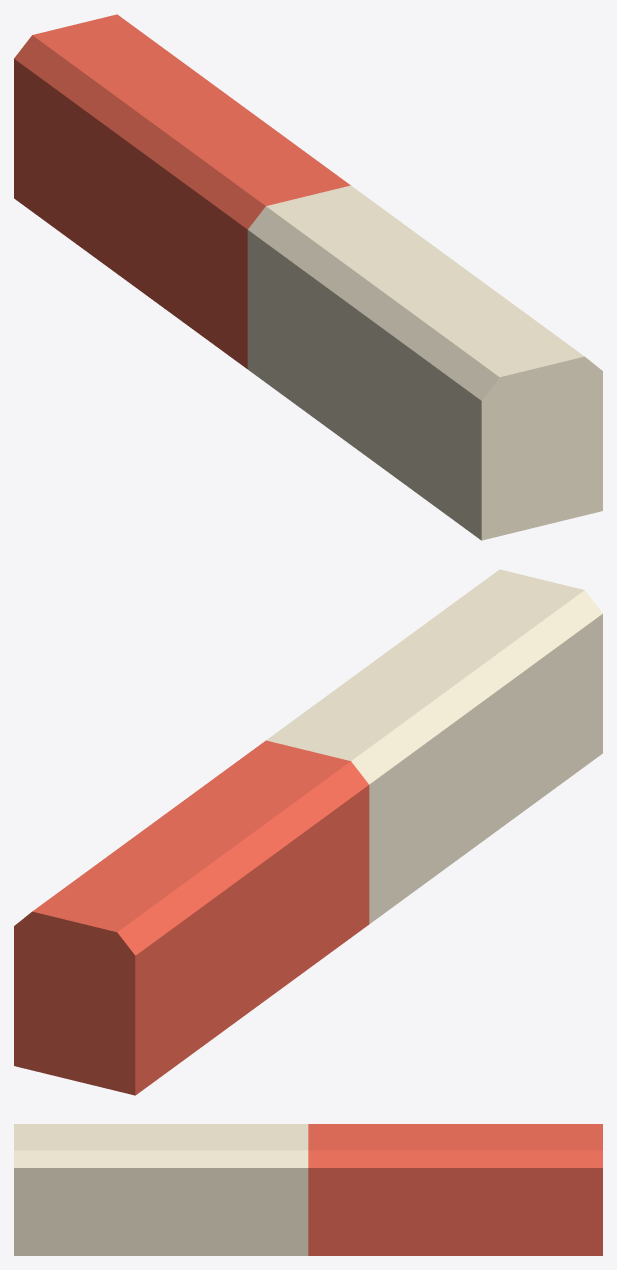
The model's file is barrier-4m.glb.
3 views of the same model, one above another, from view 1: azimuth 30°, elevation 25°; view 2: azimuth 150°, elevation 25°; view 3: azimuth 270°, elevation 25° (orthographic). The views are drawn at different scales.
Parts seen in each view (by area): view 1: barrier-4m; view 2: barrier-4m; view 3: barrier-4m.
Part boxes in pixels (<box>): barrier-4m: <box>14,14,602,540</box>; barrier-4m: <box>14,569,602,1095</box>; barrier-4m: <box>14,1124,602,1255</box>.
Size of the model in its own units: 0.6 by 0.75 by 4.
